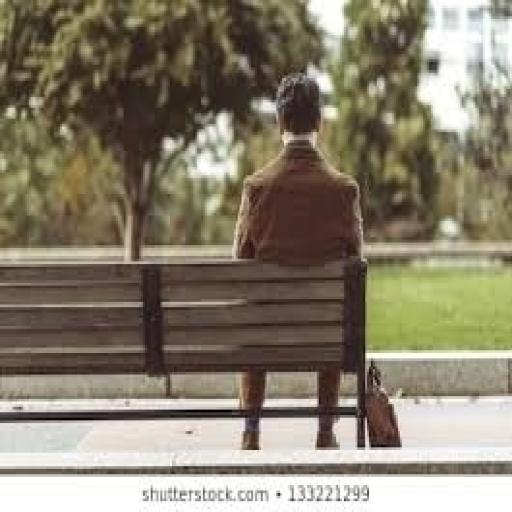sitting: (228, 67, 367, 450)
